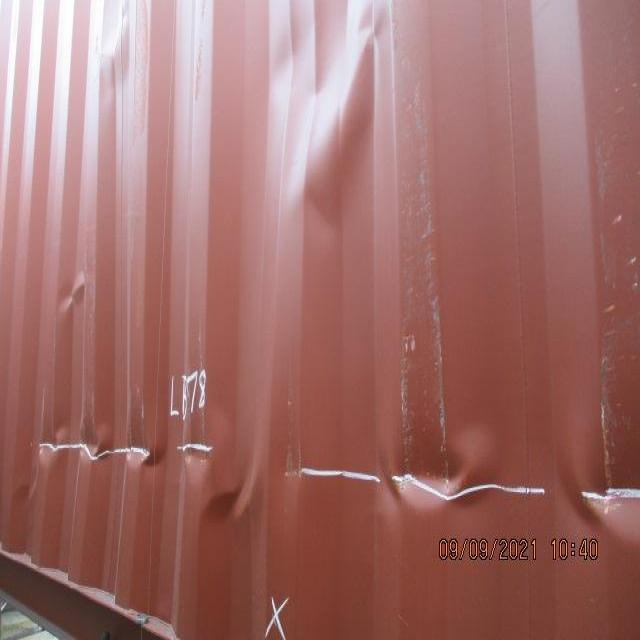Dent: (9, 378, 637, 562), (240, 4, 404, 232)
Minor-Dent: (84, 4, 153, 103)
